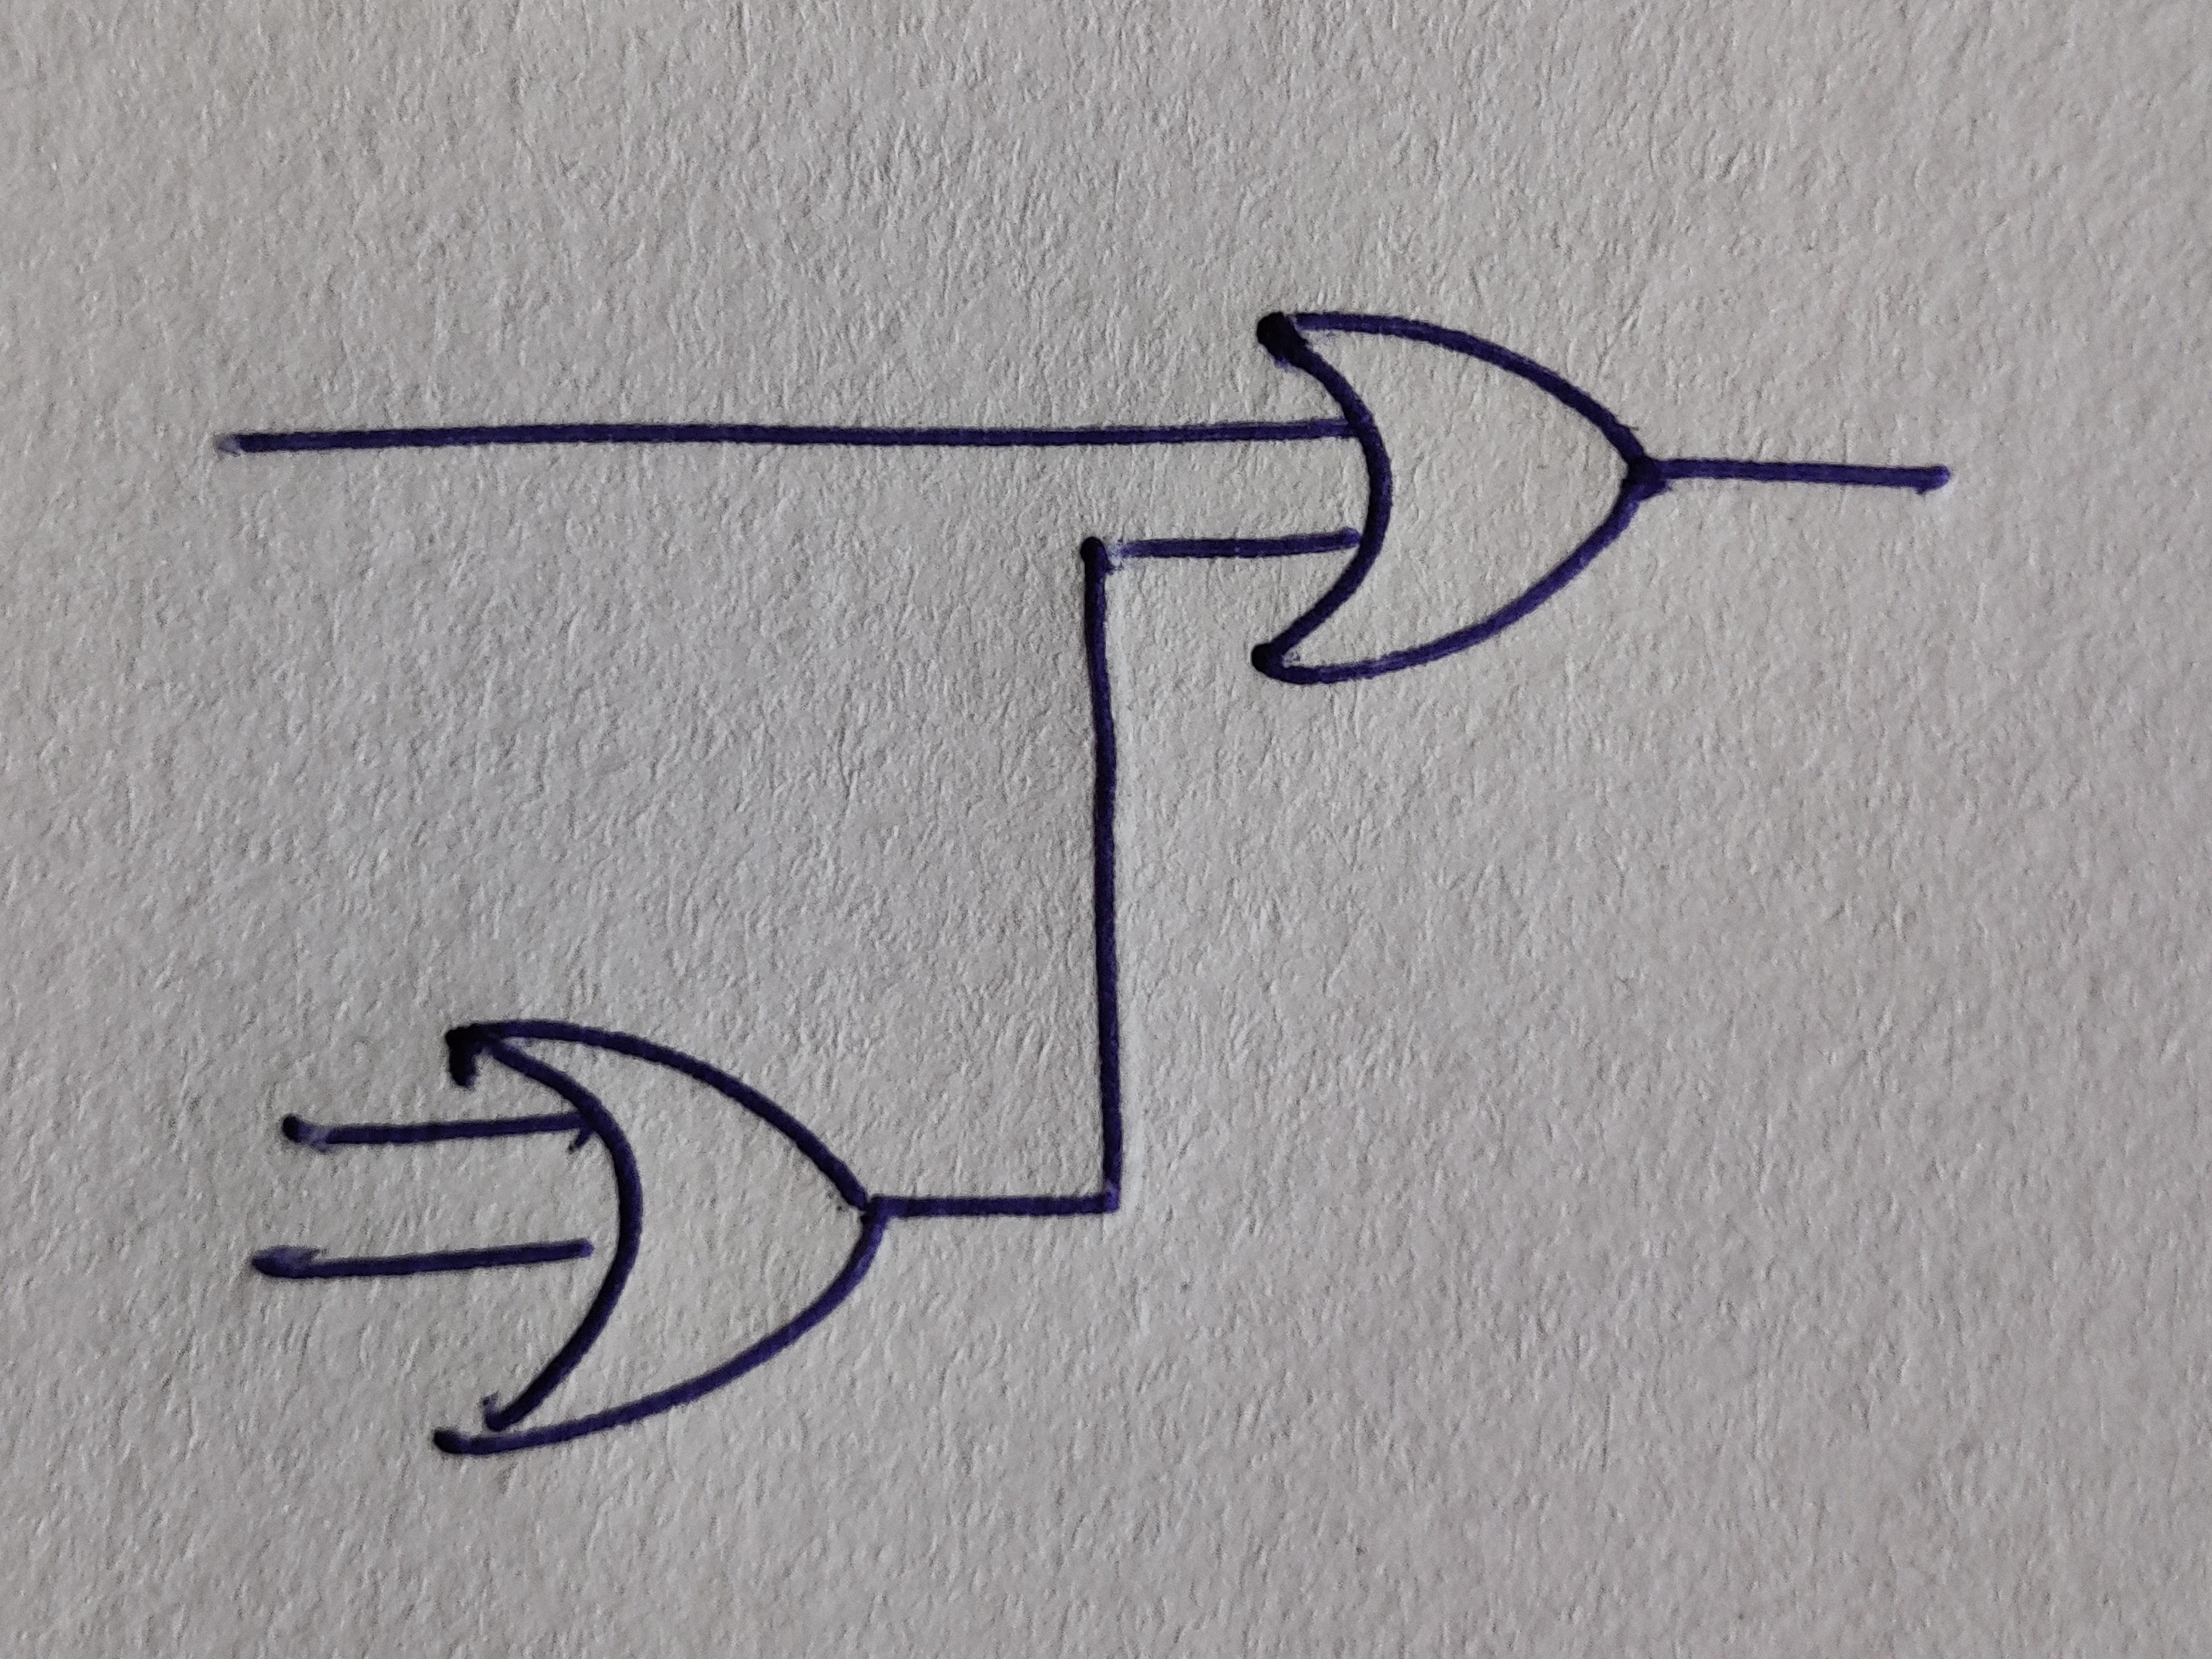or: (430, 1019, 890, 1457), (1251, 310, 1665, 688)
